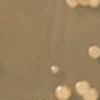white: (52, 81, 72, 100), (73, 78, 91, 96), (81, 86, 99, 100), (86, 43, 100, 60), (60, 0, 80, 10), (75, 0, 91, 9), (49, 63, 60, 76), (86, 0, 99, 10)
